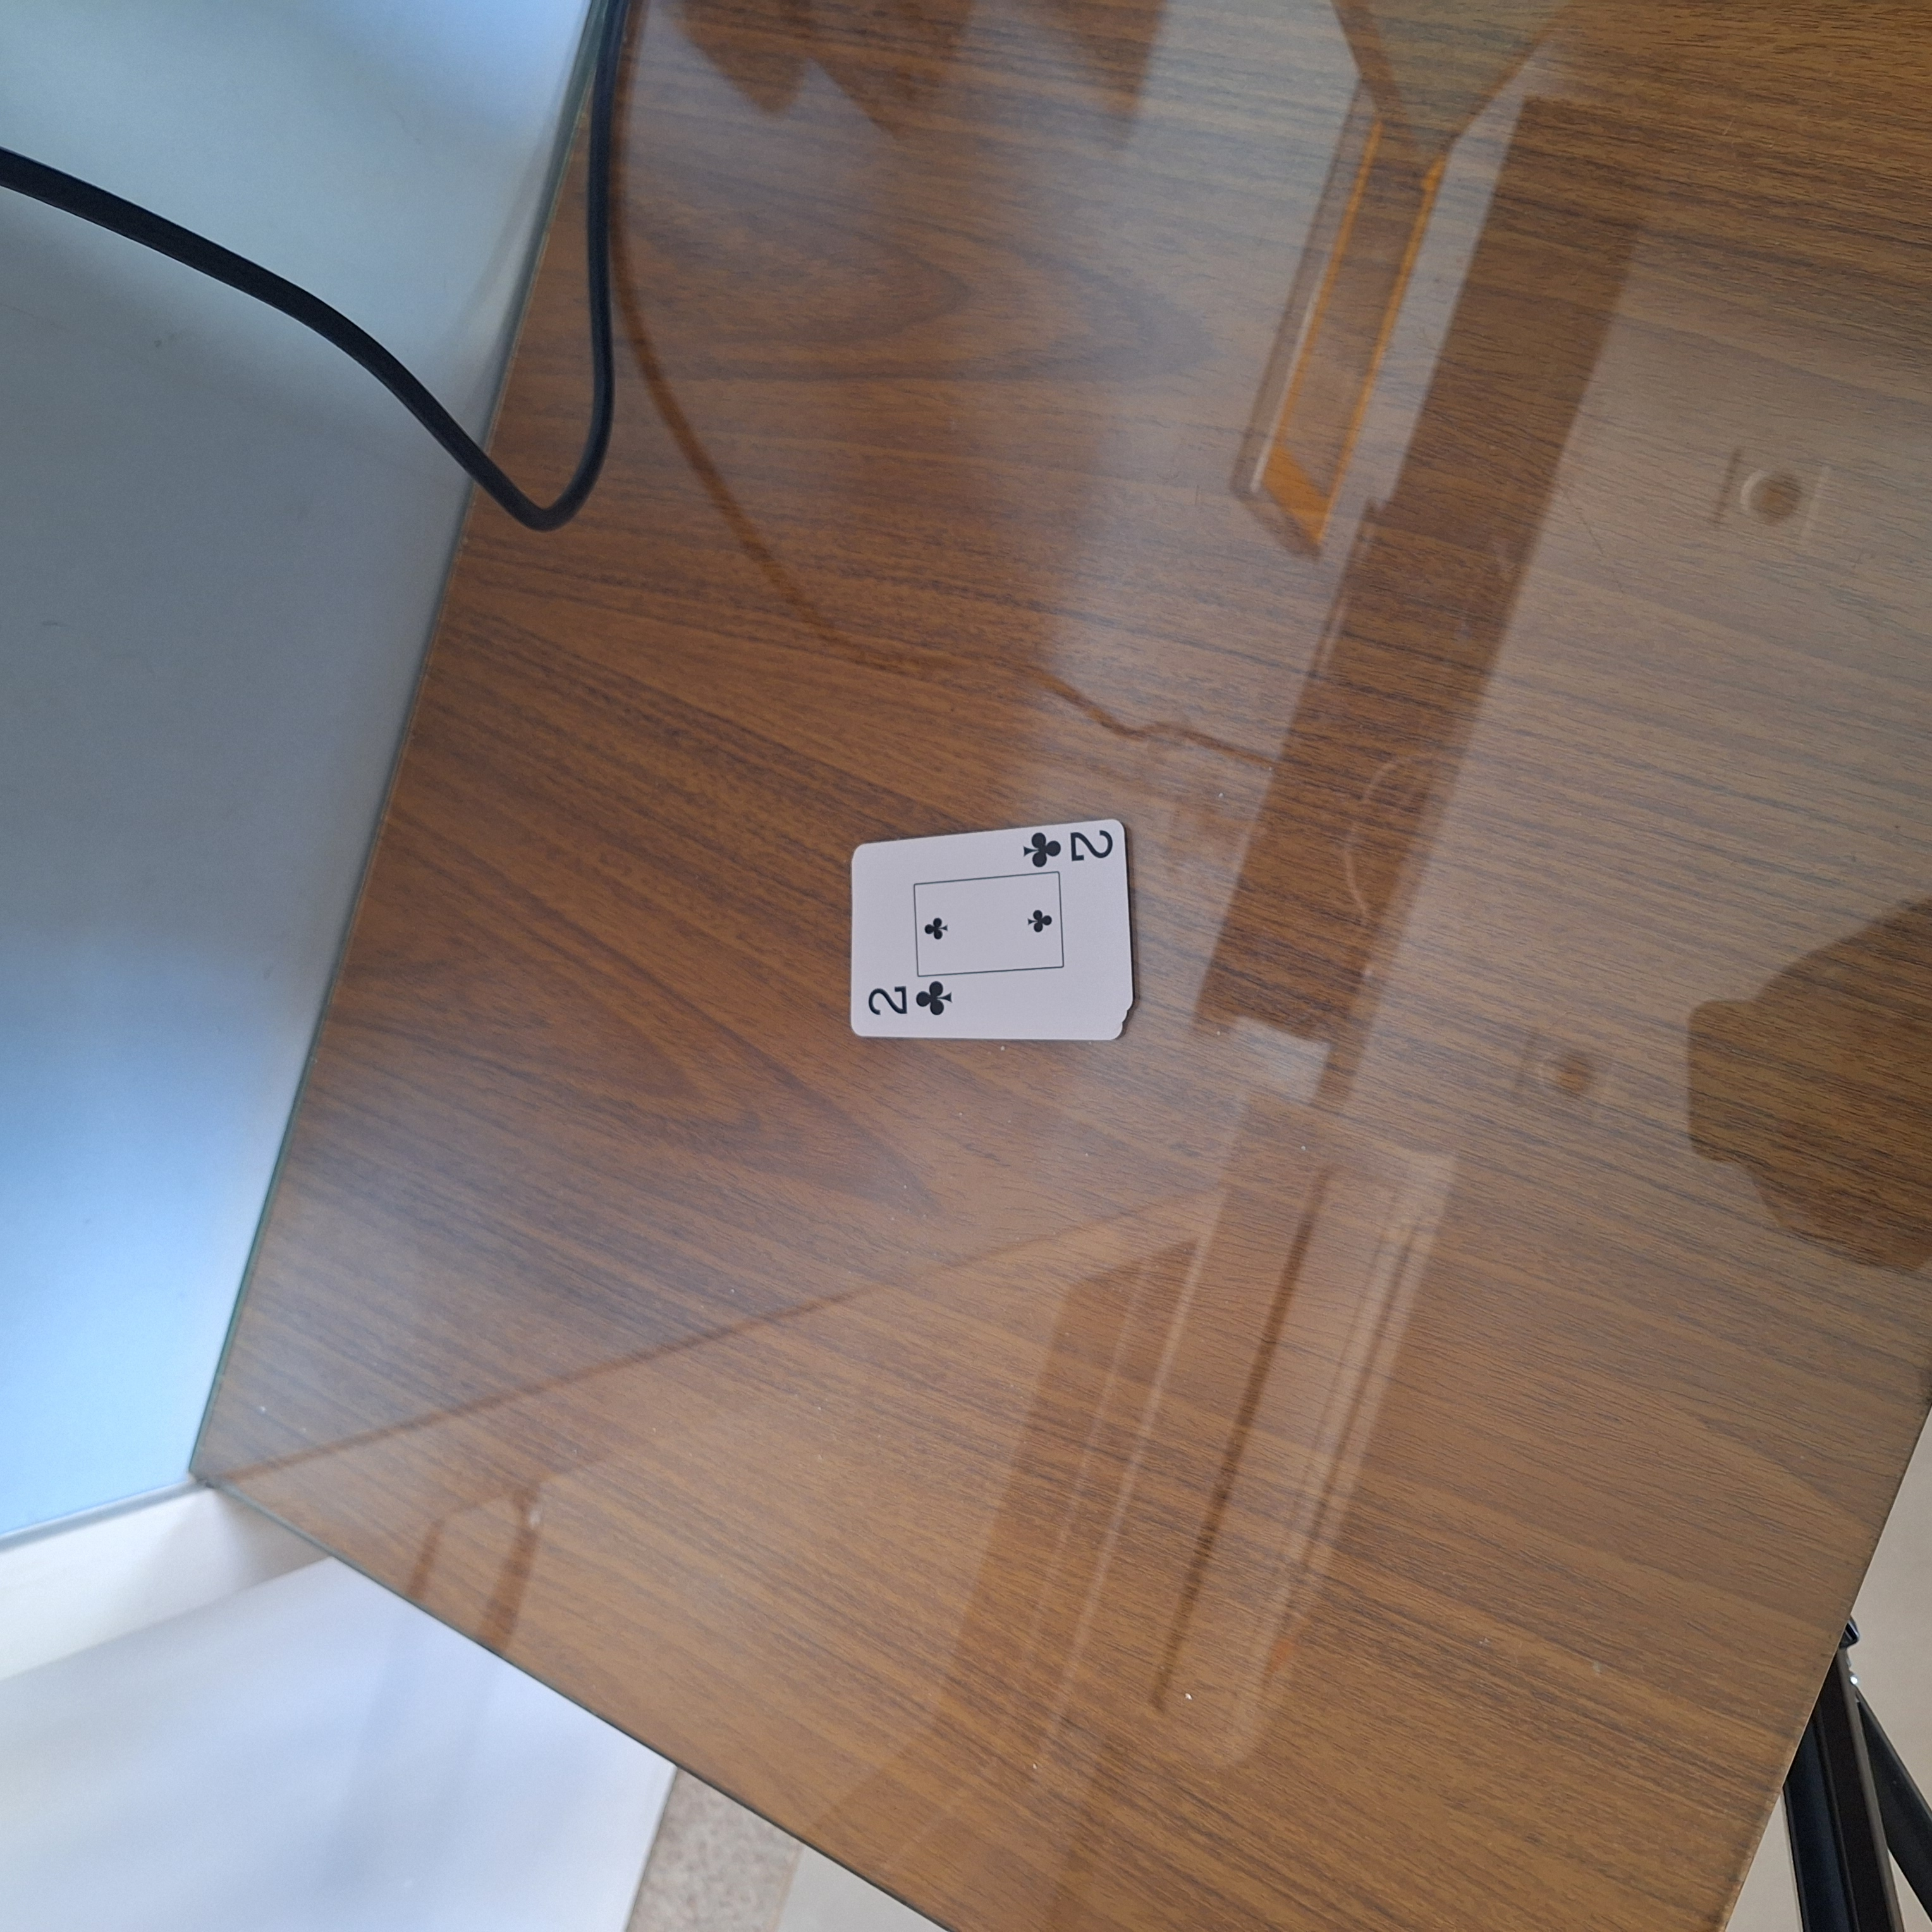2P: (1014, 823, 1127, 876), (858, 977, 959, 1023)
